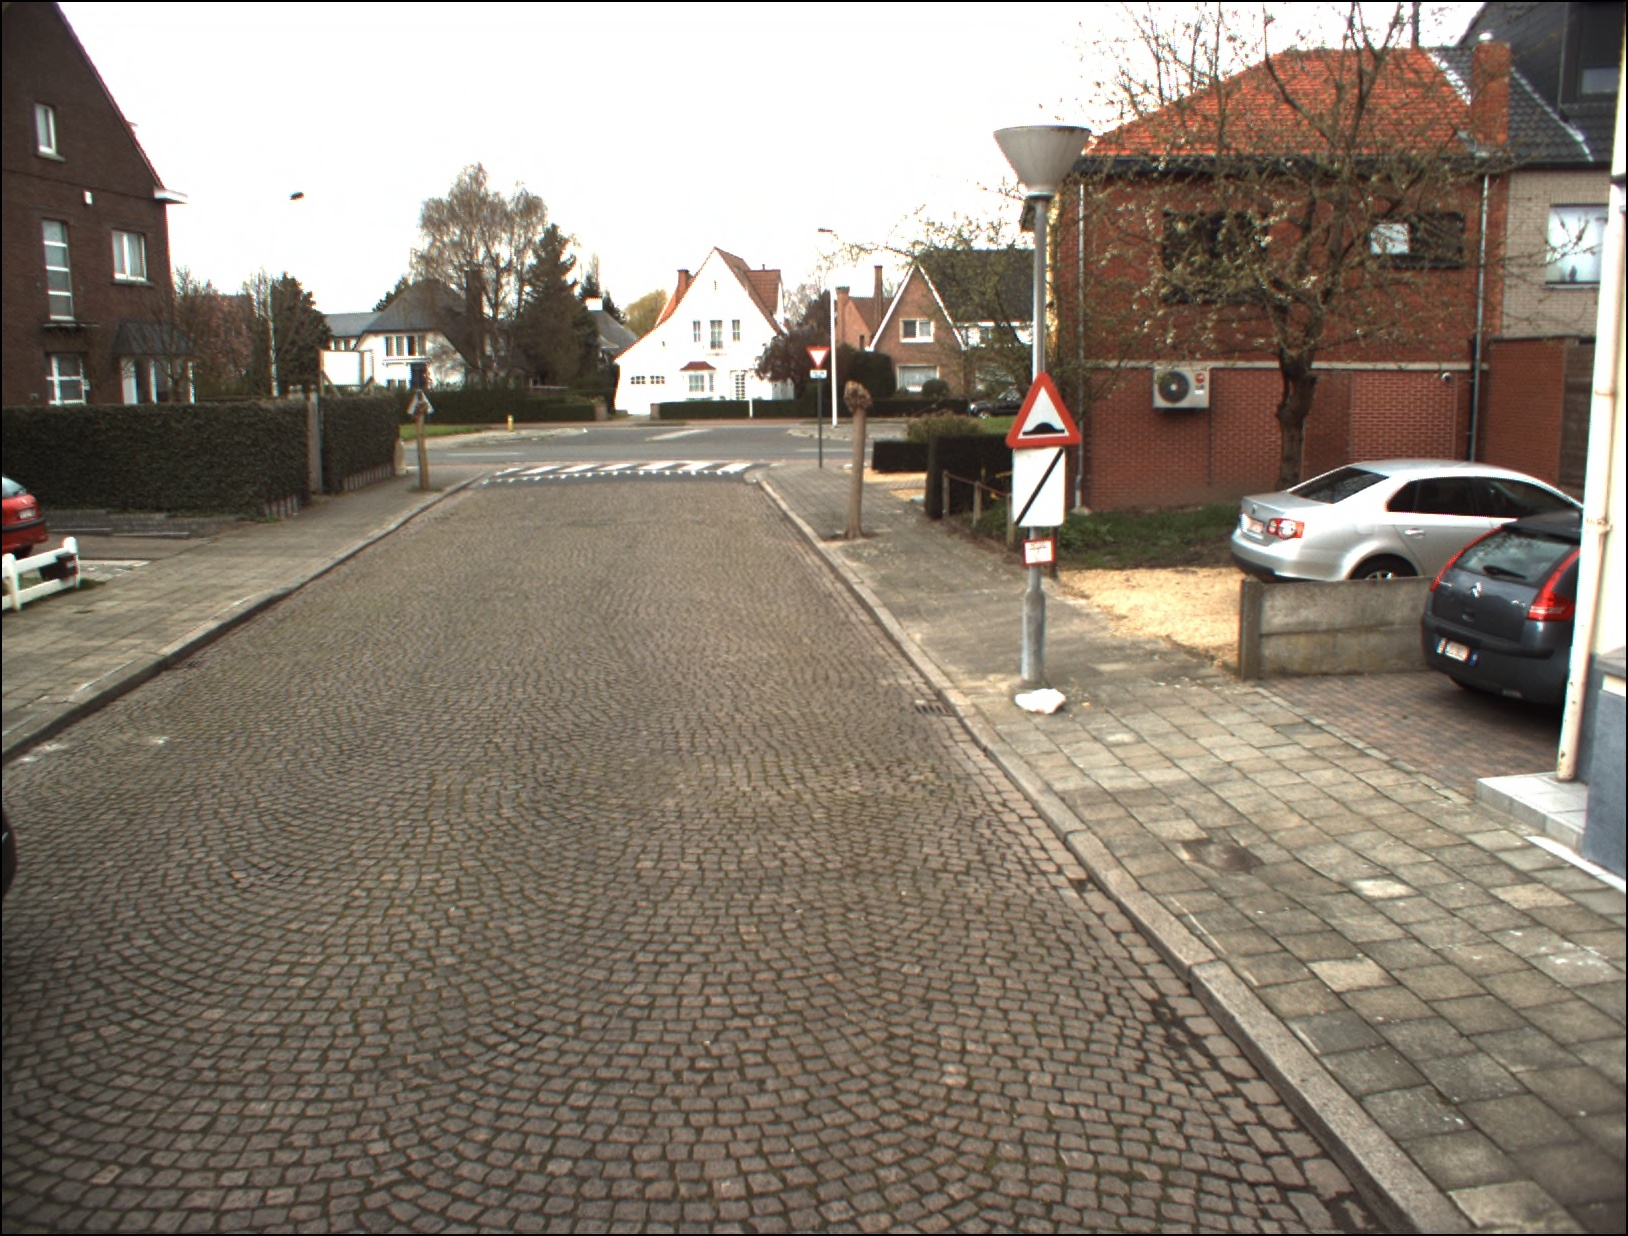speedbump: (1007, 373, 1083, 451)
